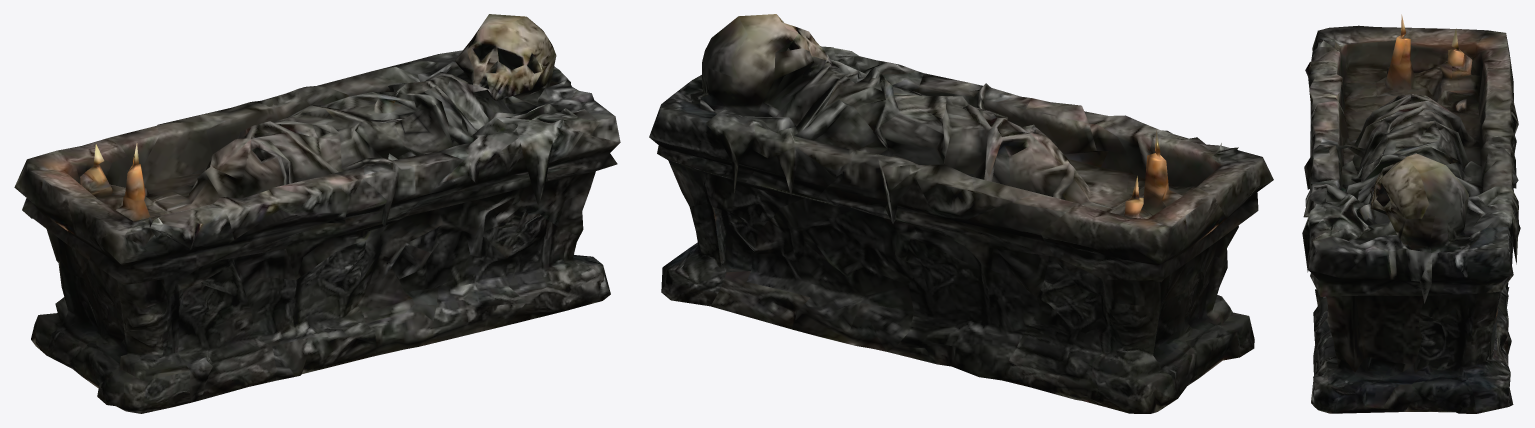
File: sarcophagus.glb
The picture shows the model from 3 angles, left to right: view 1: azimuth 30°, elevation 25°; view 2: azimuth 150°, elevation 25°; view 3: azimuth 270°, elevation 25°; orthographic projection. The views are drawn at different scales.
Visible parts, largest first — view 1: tripo_node_ac07a40f-e409-4e83-9800-e5671dffdf77; view 2: tripo_node_ac07a40f-e409-4e83-9800-e5671dffdf77; view 3: tripo_node_ac07a40f-e409-4e83-9800-e5671dffdf77.
Part boxes in pixels (x1,y1,x2,y2): tripo_node_ac07a40f-e409-4e83-9800-e5671dffdf77: [14, 14, 620, 413]; tripo_node_ac07a40f-e409-4e83-9800-e5671dffdf77: [649, 14, 1273, 413]; tripo_node_ac07a40f-e409-4e83-9800-e5671dffdf77: [1302, 14, 1520, 413].
Size of the model in its own units: 0.9766 by 0.4594 by 0.3913.
1 material, 1 textured.
